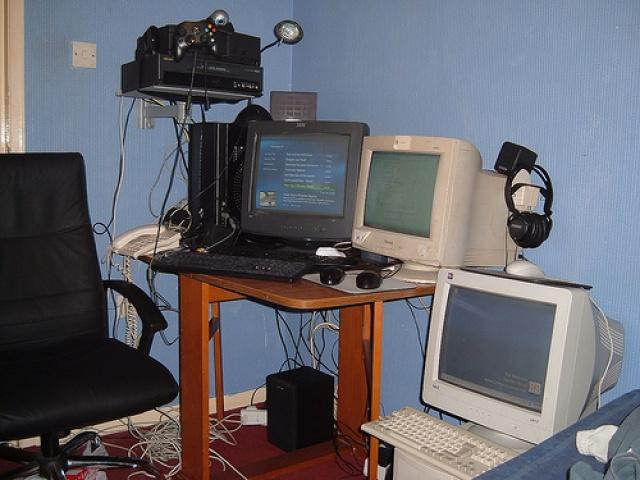Kursi: (0, 150, 179, 479)
